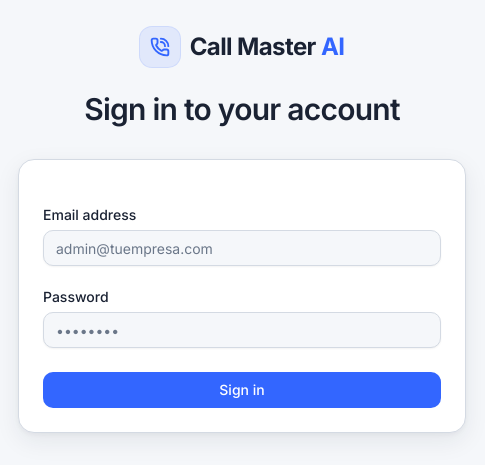
it: LoginPage — Zod + RHF validation › should display inline validation error for invalid email
The width and height of the screenshot is (485, 465).
In the field labelled "Email address": (242, 248) [43, 230, 441, 266], type "bad-email"
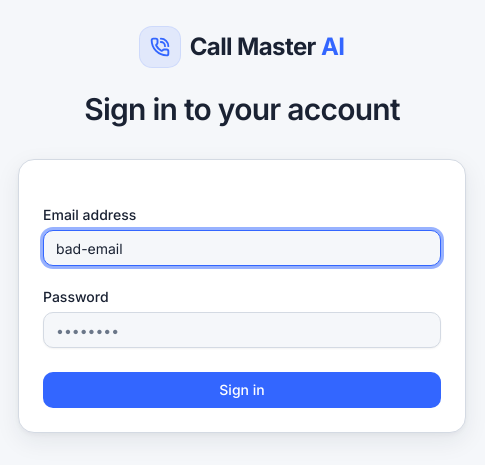
In the password field labelled "Password": (242, 330) [43, 312, 441, 348], type "somepass"
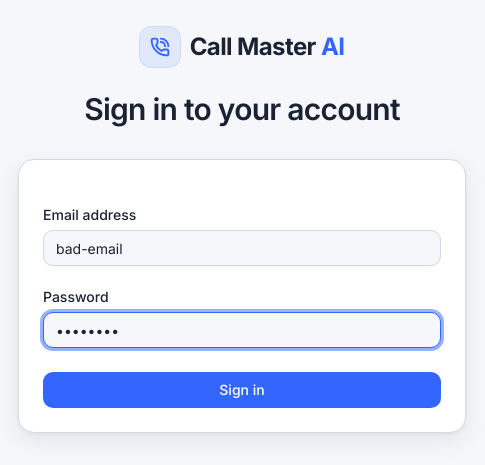
Click the button "Sign in": (242, 390) [43, 372, 441, 408]
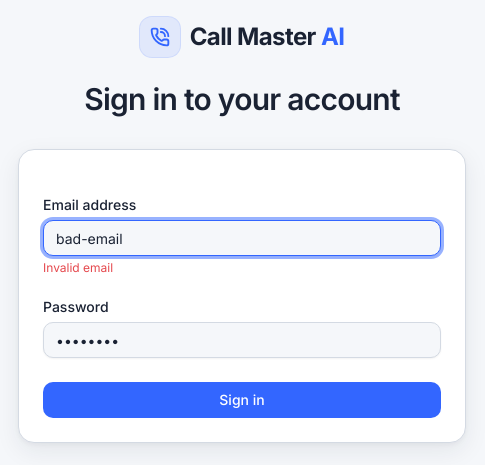
expect the message "Invalid email" is shown: met, box [43, 260, 113, 275]
